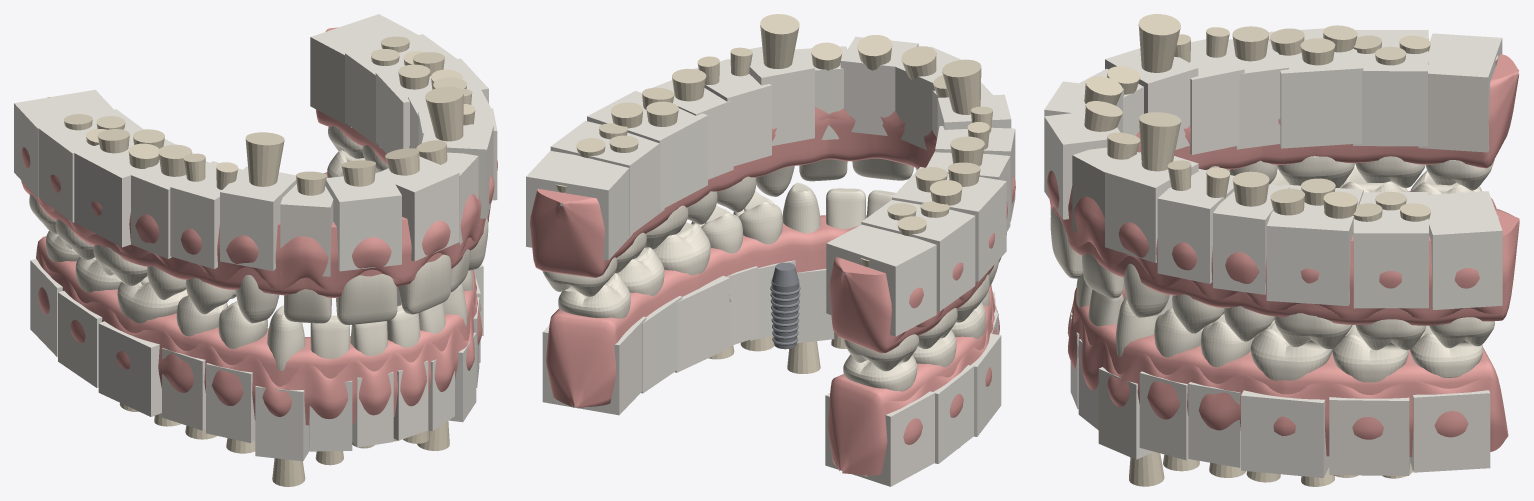
The model's file is jaws.glb.
3 renders of one model, left to right at view 1: azimuth 30°, elevation 25°; view 2: azimuth 150°, elevation 25°; view 3: azimuth 270°, elevation 25°, orthographic. The views are drawn at different scales.
Parts seen in each view (by area): view 1: bone_upper, bone_lower, tooth_11_crown, gum_12, gum_11, tooth_21_crown, gum_42, tooth_46_crown, tooth_16_root, tooth_23_root, tooth_13_root, gum_41 (+52 smaller); view 2: bone_upper, bone_lower, ridge_38, ridge_48, gum_48, ridge_28, gum_18, gum_38, gum_28, ridge_18, implant_fixture, tooth_36_crown (+46 smaller); view 3: bone_upper, bone_lower, tooth_36_crown, tooth_37_crown, tooth_26_root, tooth_16_root, gum_38, tooth_38_crown, tooth_23_root, tooth_13_root, ridge_38, tooth_26_crown (+60 smaller).
Boxes of the visible parts, box(x1,y1,x2,y2) form: bone_upper: box(14, 14, 497, 276); bone_lower: box(30, 259, 483, 461); tooth_11_crown: box(336, 274, 397, 324); gum_12: box(277, 223, 333, 291); gum_11: box(333, 219, 406, 295); tooth_21_crown: box(397, 254, 451, 314); gum_42: box(307, 358, 354, 425); tooth_46_crown: box(117, 276, 187, 323); tooth_16_root: box(97, 129, 164, 168); tooth_23_root: box(425, 86, 463, 141); tooth_13_root: box(245, 132, 284, 186); gum_41: box(354, 352, 395, 423); bone_upper: box(526, 36, 1015, 336); bone_lower: box(542, 260, 1001, 486); ridge_38: box(546, 295, 641, 407); ridge_48: box(828, 365, 929, 475); gum_48: box(827, 373, 930, 475); ridge_28: box(530, 188, 626, 277); gum_18: box(829, 256, 931, 352); gum_38: box(546, 315, 641, 408); gum_28: box(530, 190, 604, 276); ridge_18: box(829, 257, 931, 353); implant_fixture: box(770, 262, 800, 349); tooth_36_crown: box(653, 222, 710, 275); bone_upper: box(1044, 28, 1502, 310); bone_lower: box(1070, 295, 1490, 477); tooth_36_crown: box(1250, 320, 1332, 380); tooth_37_crown: box(1332, 325, 1408, 382); tooth_26_root: box(1270, 178, 1357, 218); tooth_16_root: box(1270, 25, 1357, 65); gum_38: box(1411, 348, 1508, 451); tooth_38_crown: box(1409, 325, 1483, 377); tooth_23_root: box(1139, 112, 1181, 171); tooth_13_root: box(1138, 14, 1180, 72); ridge_38: box(1408, 348, 1508, 456); tooth_26_crown: box(1274, 313, 1352, 349).
Size of the model in its own units: 0.0643 by 0.0544 by 0.0632.
